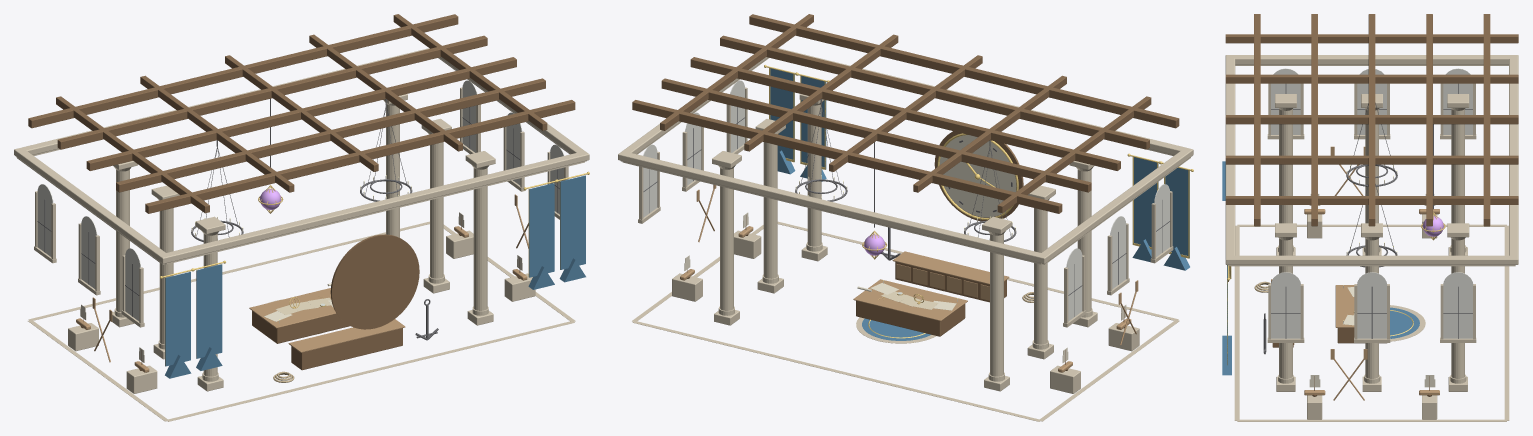
The model's file is guild_mariners.glb.
The picture shows the model from 3 angles, left to right: view 1: azimuth 30°, elevation 25°; view 2: azimuth 150°, elevation 25°; view 3: azimuth 270°, elevation 25°; orthographic projection.
Visible parts, largest first — view 1: guild_mariners; view 2: guild_mariners; view 3: guild_mariners.
Part boxes in pixels (x1=…): guild_mariners: x1=14, y1=14, x2=589, y2=421; guild_mariners: x1=618, y1=14, x2=1193, y2=421; guild_mariners: x1=1222, y1=14, x2=1518, y2=421.
Bounding box in the file's own units: 25.46 × 11.96 × 15.47.
